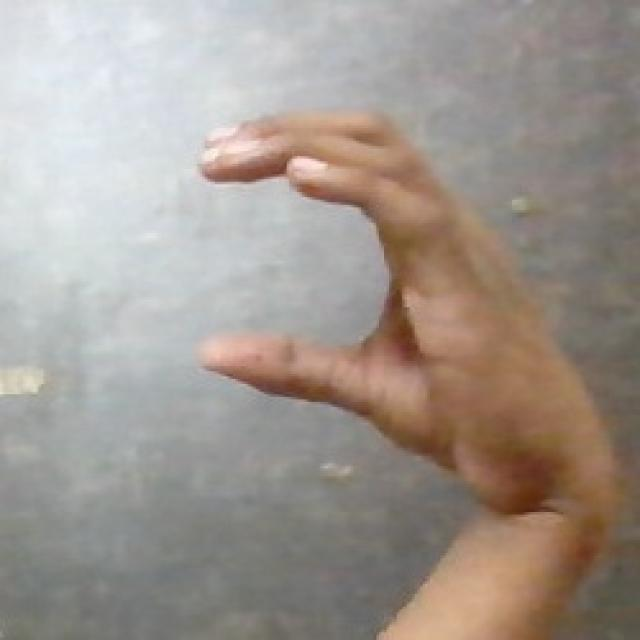Alphabet-C: (180, 90, 538, 464)
